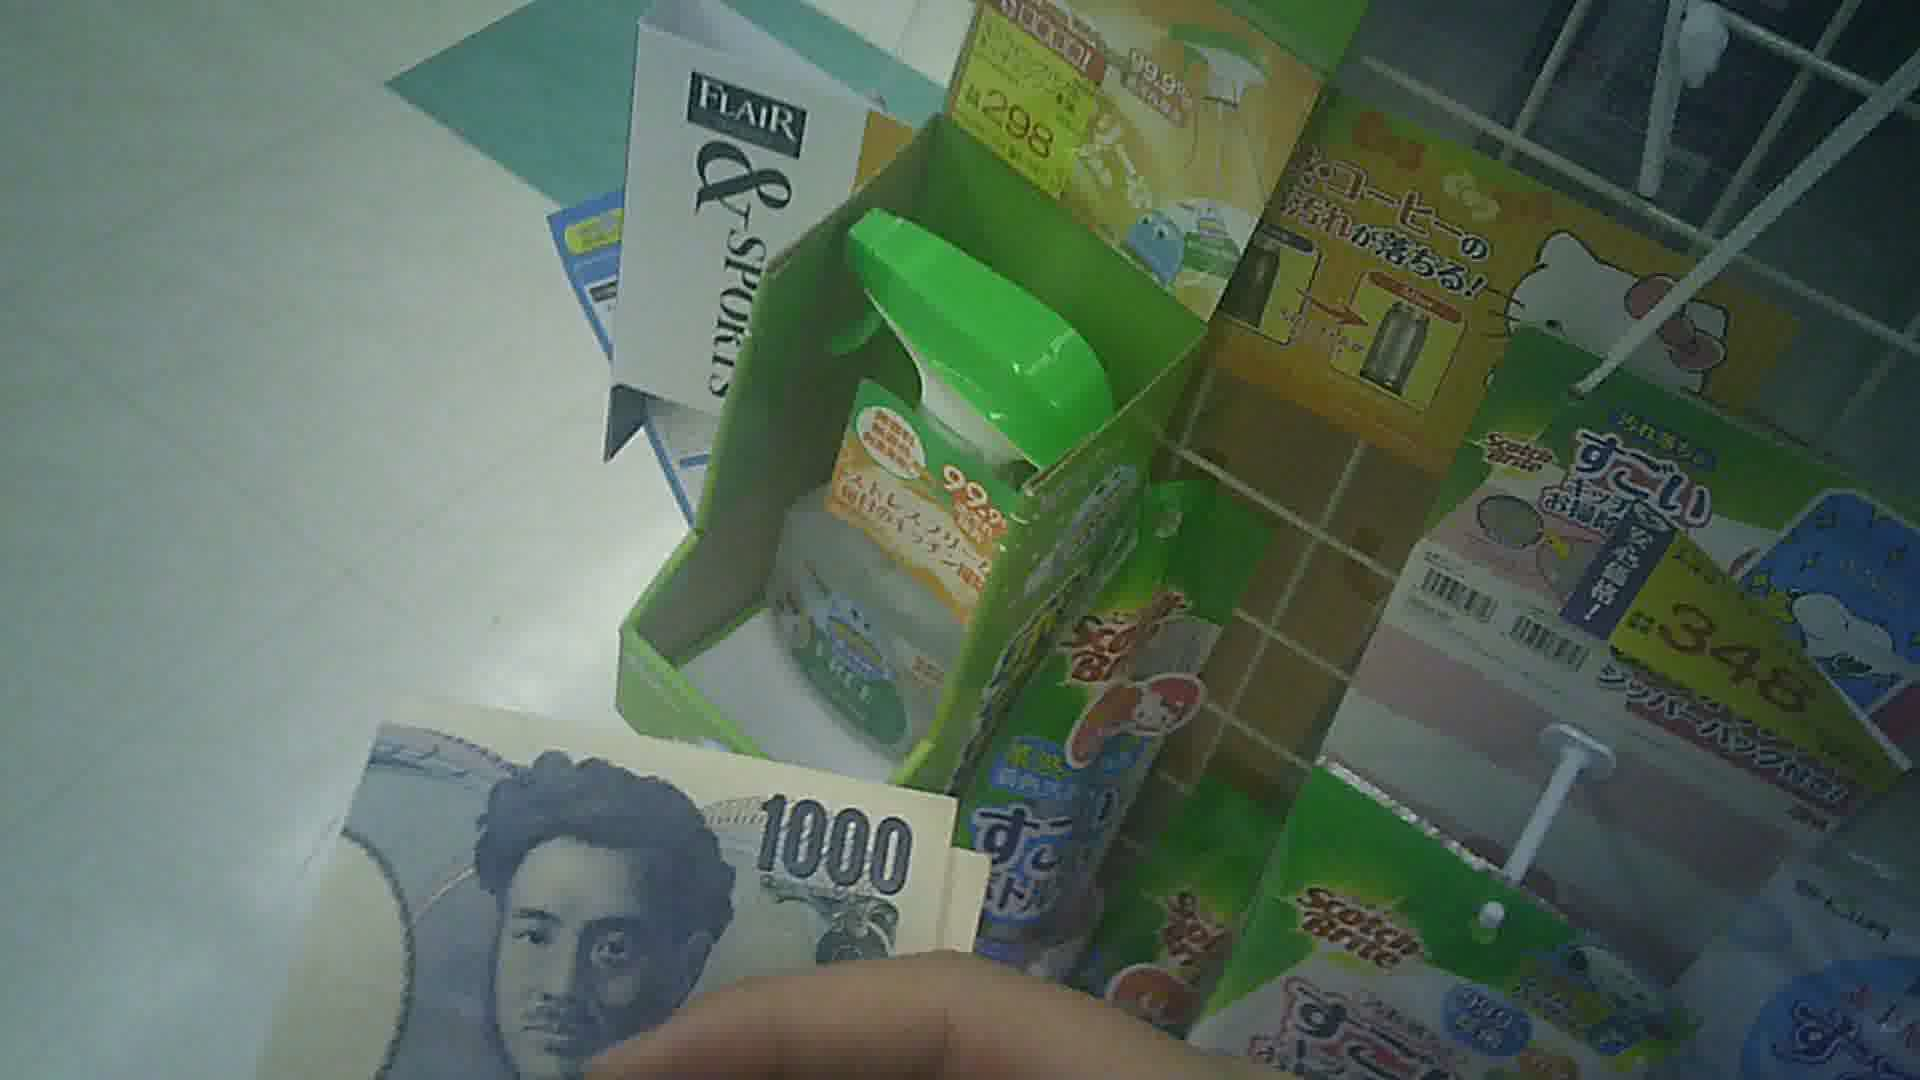1,000 Yen: (261, 688, 1018, 1060)
